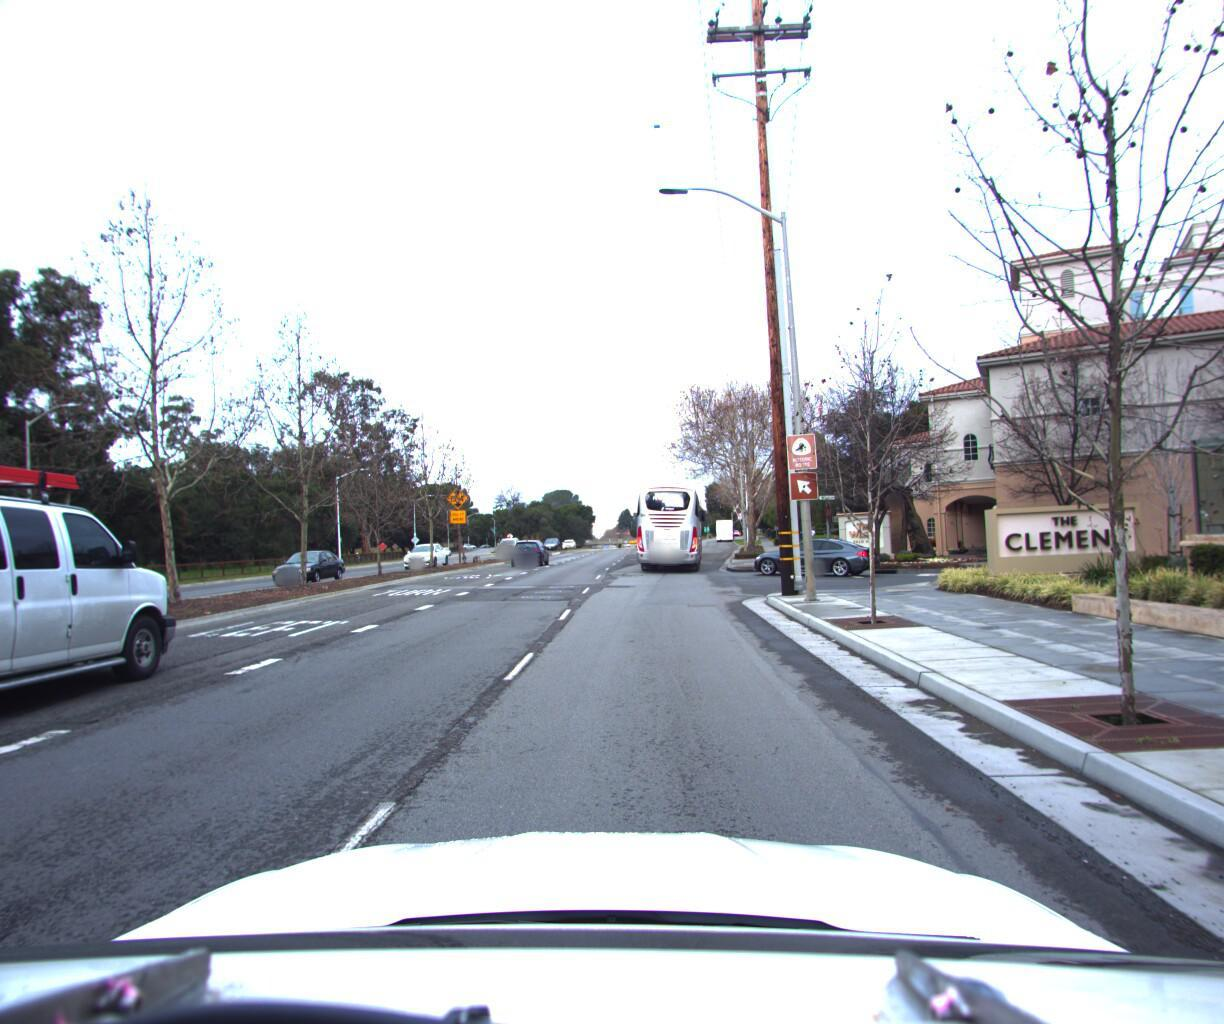bus: (626, 471, 709, 573)
car: (0, 405, 202, 811), (743, 527, 888, 574), (270, 543, 350, 586), (397, 535, 453, 566), (509, 532, 549, 562), (494, 530, 525, 551)
